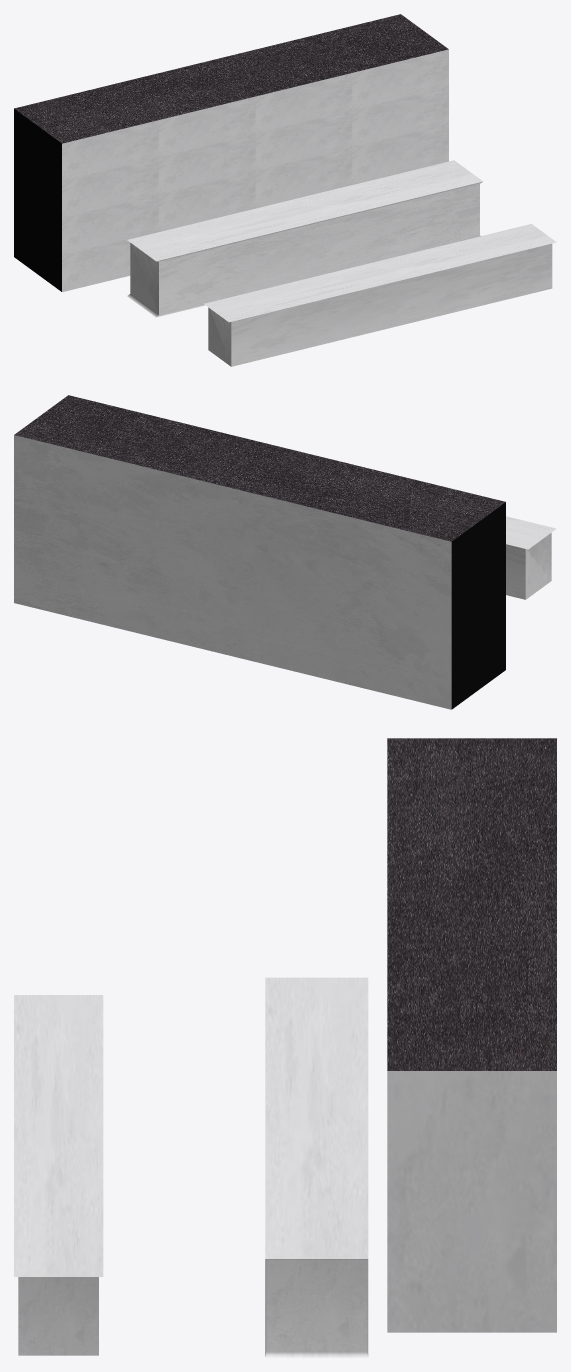
The model's file is estrucint.obj.
The picture shows the model from 3 angles, top to bottom: view 1: azimuth 30°, elevation 25°; view 2: azimuth 150°, elevation 25°; view 3: azimuth 270°, elevation 25°; orthographic projection. The views are drawn at different scales.
Parts seen in each view (by area): view 1: polySurface126; view 2: polySurface126; view 3: polySurface126.
Boxes of the visible parts, x1,y1,x2,y2 form: polySurface126: (14,14,556,366); polySurface126: (14,395,556,709); polySurface126: (14,738,556,1357).
Size of the model in its own units: 17.37 by 6.95 by 11.91.
